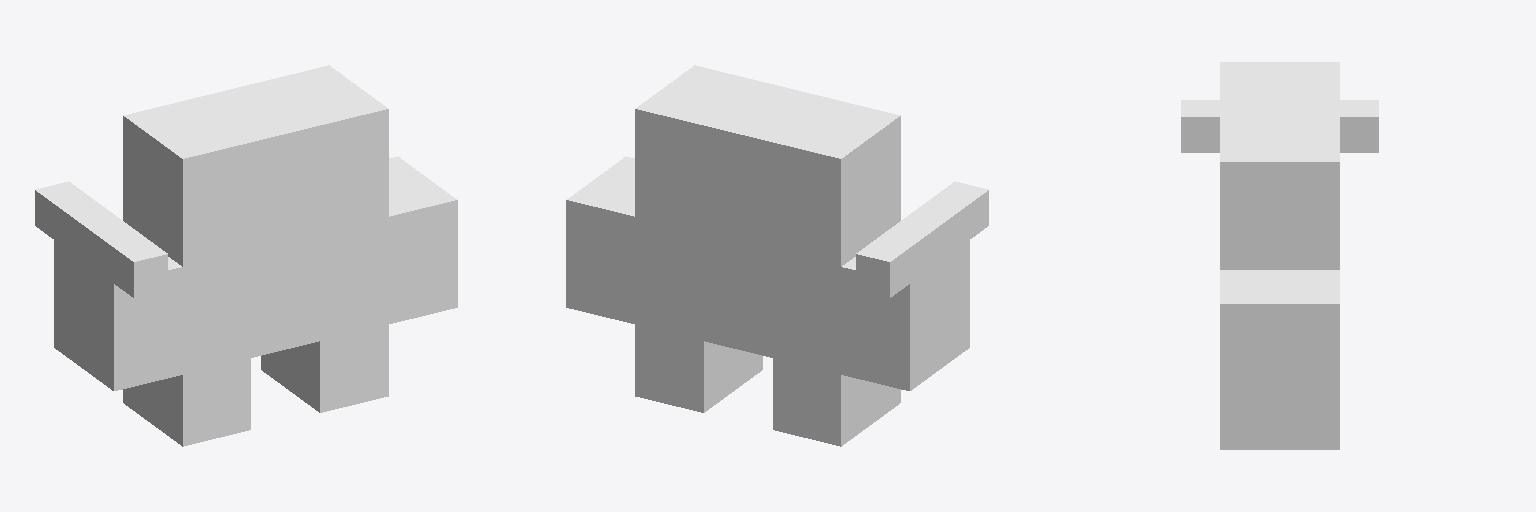
File: toy-store-9-toy4.obj
3 renders of one model, left to right at view 1: azimuth 30°, elevation 25°; view 2: azimuth 150°, elevation 25°; view 3: azimuth 270°, elevation 25°, orthographic.
Parts seen in each view (by area): view 1: toy4; view 2: toy4; view 3: toy4.
Boxes of the visible parts, x1,y1,x2,y2 form: toy4: [35, 65, 457, 446]; toy4: [566, 65, 988, 446]; toy4: [1181, 62, 1378, 449].
Size of the model in its own units: 1 by 0.8 by 0.5.